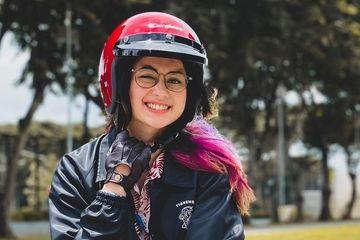helmet: (97, 9, 214, 135)
